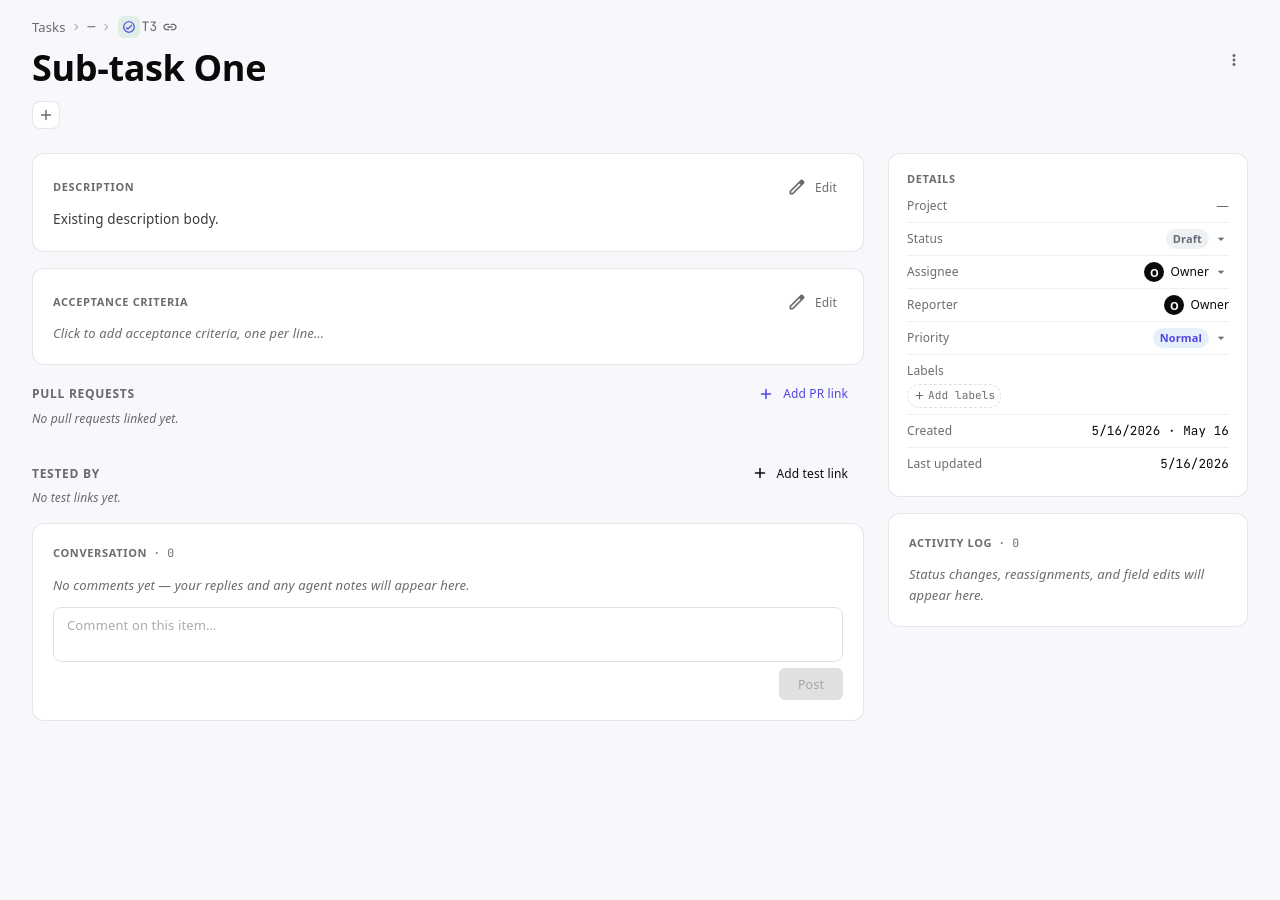
SubTaskDetail page › opens the description editor, types into the field, then cancels
Expected: the heading "Description" is shown, [53,178,134,196]
Click the 1st button "Edit": coordinates (814, 187) [785,174,843,200]
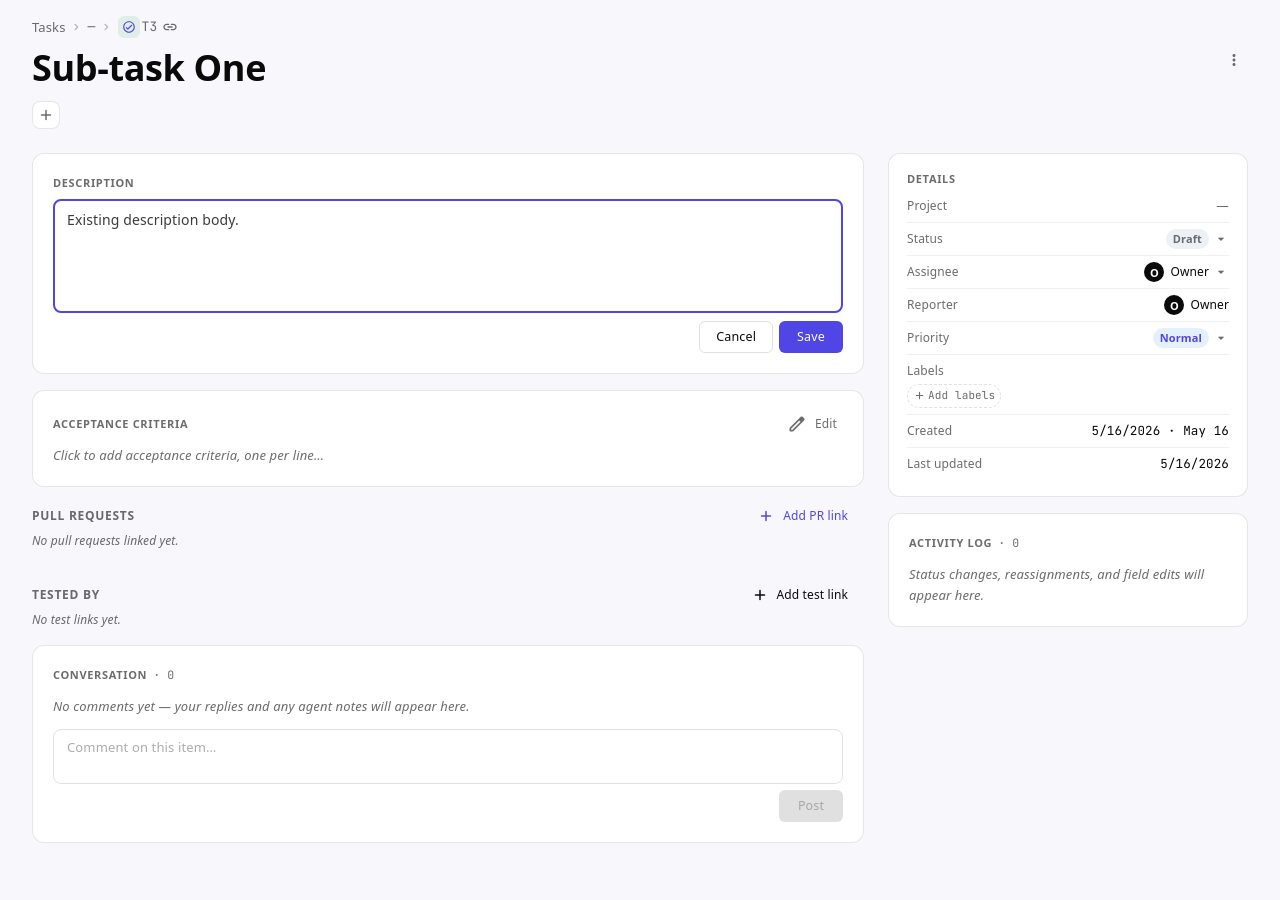
Replace the text in the text box with placeholder "Describe what this sub-task does…" with "New description draft": coordinates (448, 256) [67,208,829,304]
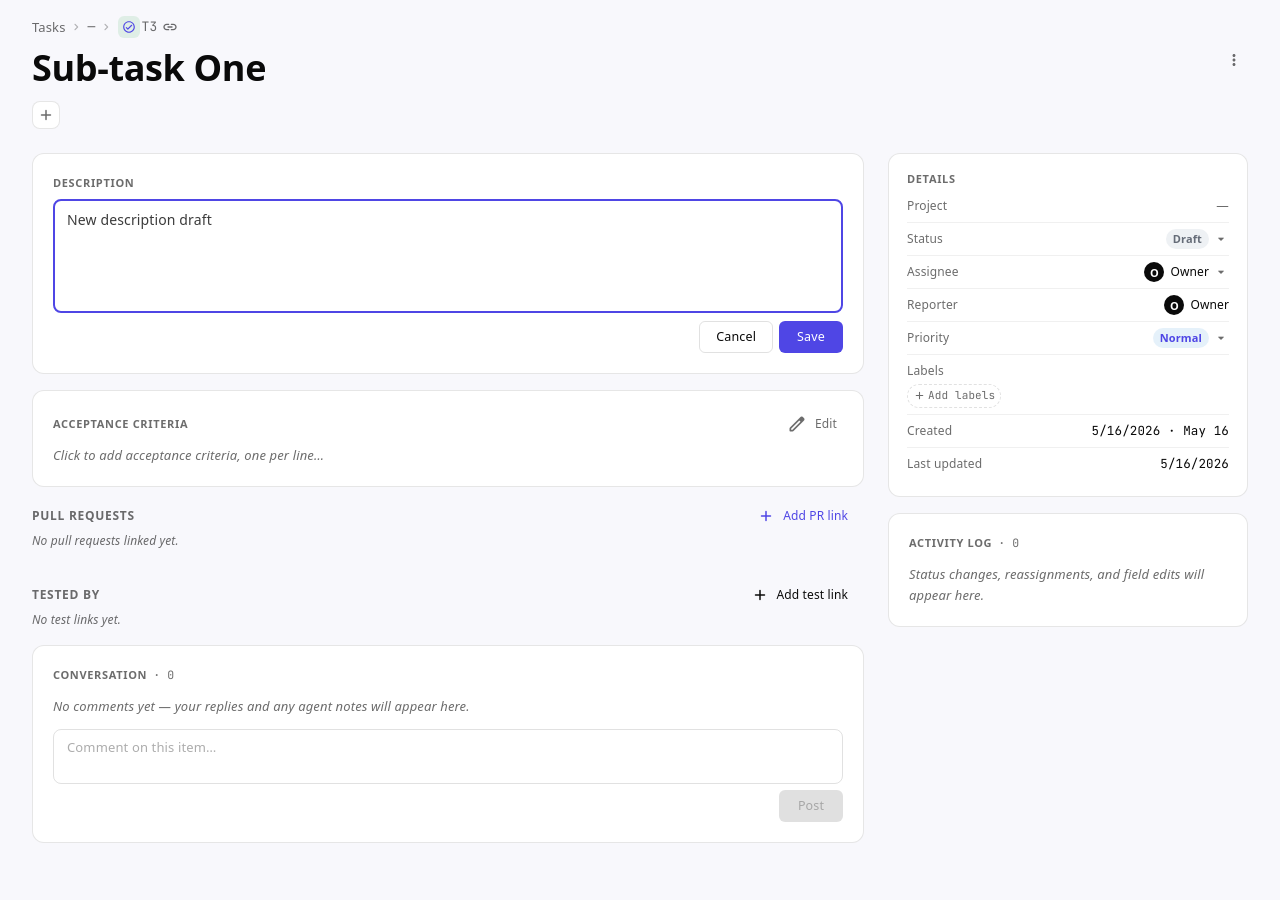
// Cancel returns to read mode without invoking onSave.
Click the button "Cancel": coordinates (736, 337) [699,321,773,353]
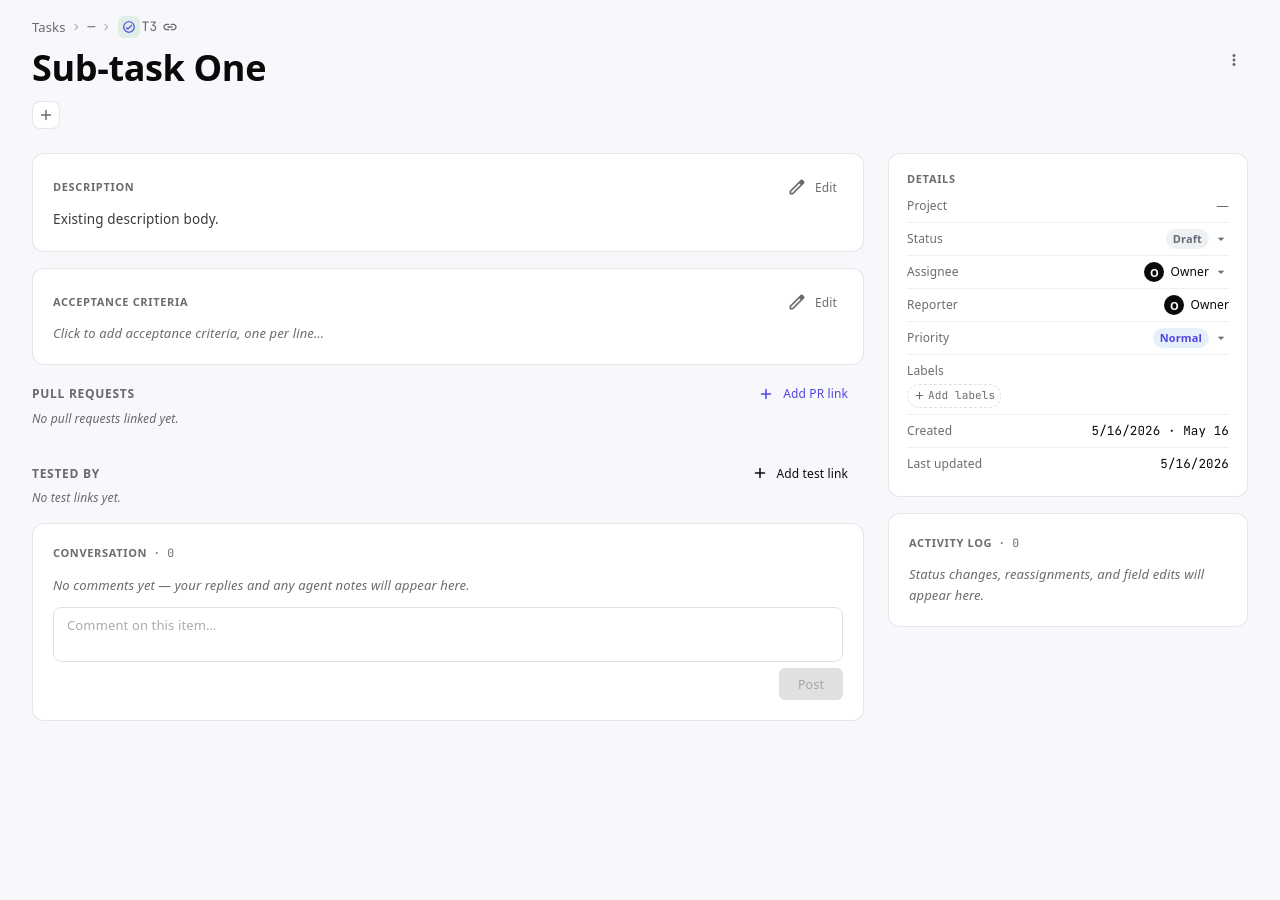
Expected: the text "Existing description body." is shown, [53,210,219,228]
